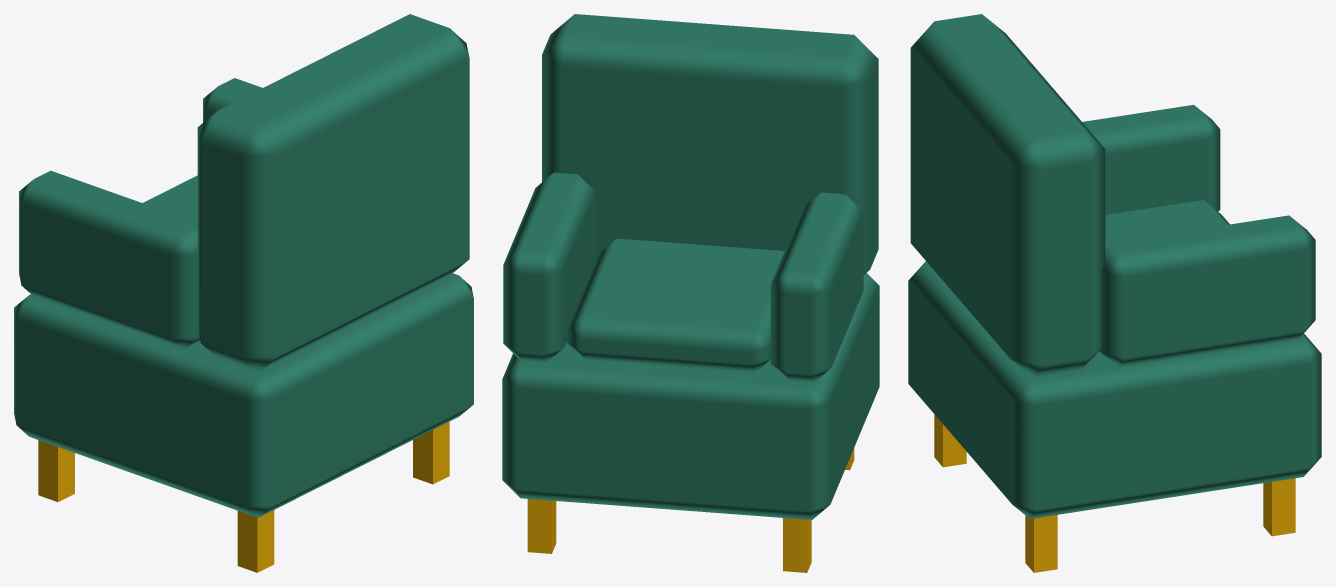
Rendered from station_buffer_ausstattung_3_0.glb.
3 views of the same model, side by side, from view 1: azimuth 30°, elevation 25°; view 2: azimuth 150°, elevation 25°; view 3: azimuth 270°, elevation 25° (orthographic). The views are drawn at different scales.
Parts seen in each view (by area): view 1: station_buffer_ausstattung_3_0; view 2: station_buffer_ausstattung_3_0; view 3: station_buffer_ausstattung_3_0.
Part boxes in pixels (left/top/right/bottom): station_buffer_ausstattung_3_0: left=14, top=14, right=473, bottom=572; station_buffer_ausstattung_3_0: left=502, top=14, right=879, bottom=572; station_buffer_ausstattung_3_0: left=908, top=14, right=1321, bottom=572.
Bounding box in the file's own units: 0.6648 × 0.76 × 0.6528.
